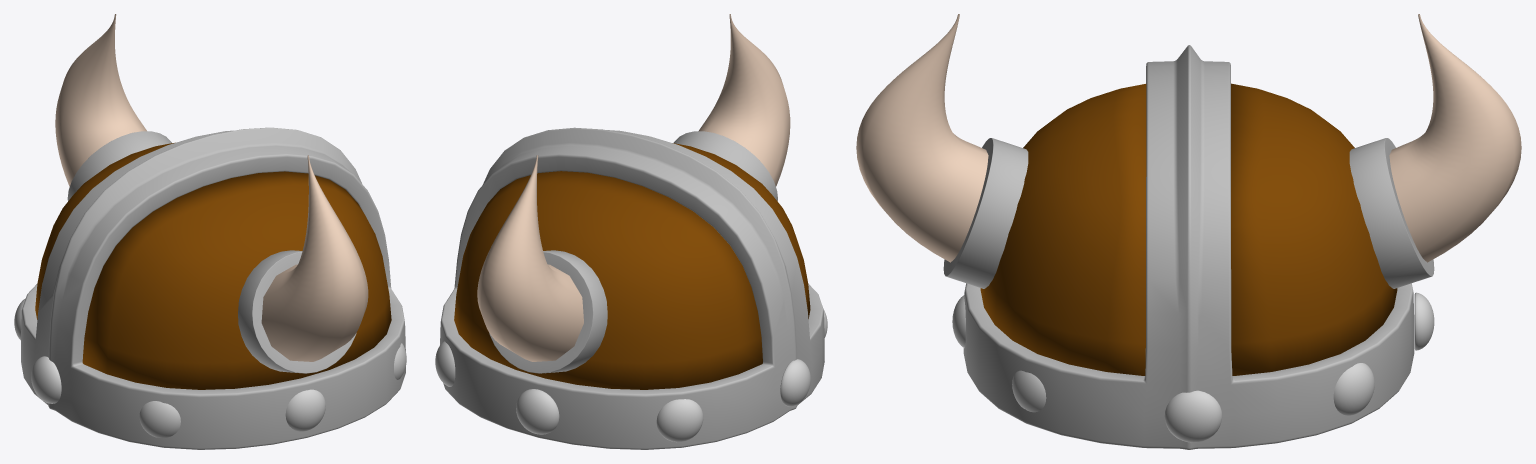
File: viking.glb
3 views of the same model, side by side, from view 1: azimuth 30°, elevation 25°; view 2: azimuth 150°, elevation 25°; view 3: azimuth 270°, elevation 25° (orthographic). The views are drawn at different scales.
Visible parts, largest first — view 1: Viking; view 2: Viking; view 3: Viking.
Boxes of the visible parts, box(x1,y1,x2,y2) form: Viking: box(14, 14, 406, 449); Viking: box(435, 14, 827, 449); Viking: box(856, 14, 1521, 449).
Bounding box in the file's own units: 2.13 × 1.66 × 2.94.
